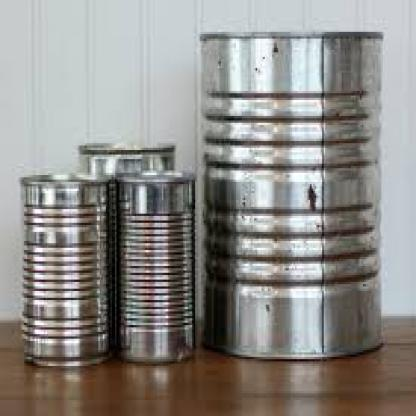METAL: (200, 29, 380, 357), (20, 173, 116, 366), (114, 168, 192, 366), (77, 143, 176, 180)
